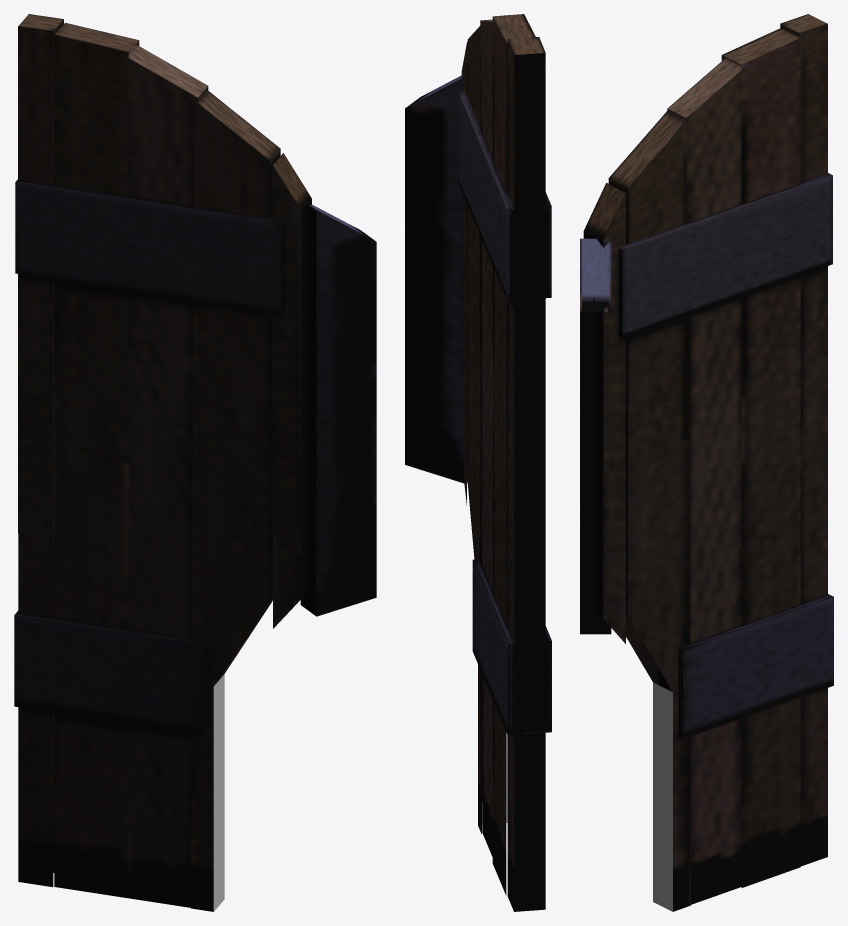
Rendered from DoorSide1F5.obj.
3 renders of one model, left to right at view 1: azimuth 30°, elevation 25°; view 2: azimuth 150°, elevation 25°; view 3: azimuth 270°, elevation 25°, orthographic. The views are drawn at different scales.
Visible parts, largest first — view 1: object 2, DoorSide1F5_Cube.434; view 2: object 2; view 3: object 2, DoorSide1F5_Cube.434.
Boxes of the visible parts, left/top/right/bottom form: object 2: left=14, top=14, right=376, bottom=911; DoorSide1F5_Cube.434: left=213, top=674, right=224, bottom=911; object 2: left=405, top=14, right=551, bottom=911; object 2: left=580, top=14, right=833, bottom=911; DoorSide1F5_Cube.434: left=653, top=682, right=672, bottom=911.
Size of the model in its own units: 80.71 by 268 by 73.87.
